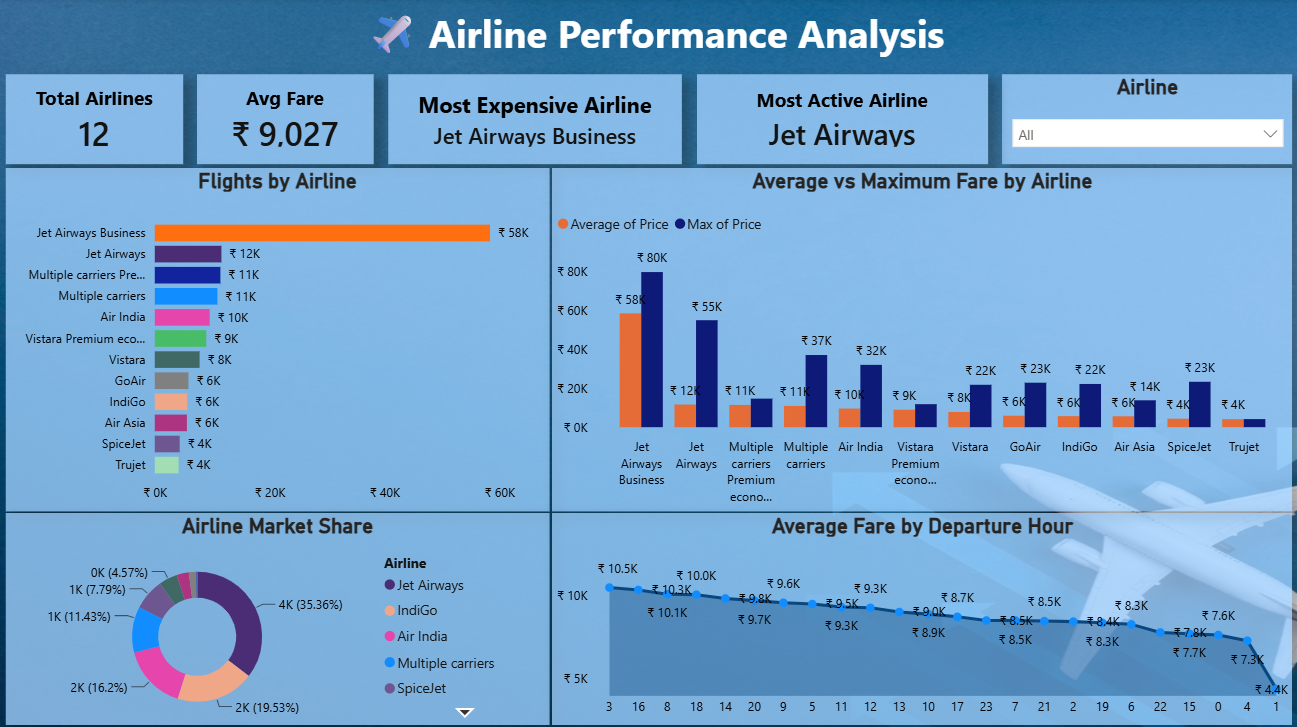

Layout of this report page (visuals, bound fields, positions):
{"tool":"powerbi","page":{"name":"Airline Analysis","canvas":[1280,720],"ordinal":1},"visuals":[{"type":"textbox","box":[321.6,3.7,644.4,66],"z":0},{"type":"slicer","title":"Airline","fields":{"Values":["Clean_Flight_Data.Airline"]},"box":[983.2,74.6,284.9,88],"z":1000},{"type":"cardVisual","fields":{"Data":["Clean_Flight_Data.Total Airlines"]},"box":[8.6,74.6,173.6,88],"z":2000},{"type":"cardVisual","fields":{"Data":["Clean_Flight_Data.Average Price"]},"box":[195.7,74.6,172.4,88],"z":3000},{"type":"cardVisual","fields":{"Data":["Clean_Flight_Data.Most Expensive Airline"]},"box":[382.7,74.6,287.4,88],"z":4000},{"type":"clusteredBarChart","title":"Flights by Airline","fields":{"Category":["Clean_Flight_Data.Airline"],"Y":["Clean_Flight_Data.Average Price"]},"box":[8.6,166.3,531.9,336.3],"z":5000},{"type":"cardVisual","fields":{"Data":["Clean_Flight_Data.Most Active Airline"]},"box":[684.8,74.6,284.9,88],"z":6000},{"type":"clusteredColumnChart","title":"Average vs Maximum Fare by Airline","fields":{"Category":["Clean_Flight_Data.Airline"],"Y":["Avg(Clean_Flight_Data.Price)","Max(Clean_Flight_Data.Price)1"]},"box":[542.9,166.3,725.1,336.3],"z":7000},{"type":"donutChart","title":"Airline Market Share","fields":{"Category":["Clean_Flight_Data.Airline"],"Y":["Clean_Flight_Data.Total Flights"]},"box":[8.6,503.8,531.9,207.9],"z":8000},{"type":"lineChart","title":"Average Fare by Departure Hour","fields":{"Category":["Clean_Flight_Data.Departure_Hour"],"Y":["Clean_Flight_Data.Average Price"]},"box":[542.9,503.8,725.1,207.9],"z":9000}]}

Visuals, with their boxes in screenshot pixels (x1, y1, x2, y2), scaled from the page's 1280x720 canvas onto the 1297x727 screenshot:
textbox: l=326, t=4, r=979, b=70
"Airline" slicer: l=996, t=75, r=1285, b=164
cardVisual - Clean_Flight_Data.Total Airlines: l=9, t=75, r=185, b=164
cardVisual - Clean_Flight_Data.Average Price: l=198, t=75, r=373, b=164
cardVisual - Clean_Flight_Data.Most Expensive Airline: l=388, t=75, r=679, b=164
"Flights by Airline" clusteredBarChart: l=9, t=168, r=548, b=507
cardVisual - Clean_Flight_Data.Most Active Airline: l=694, t=75, r=983, b=164
"Average vs Maximum Fare by Airline" clusteredColumnChart: l=550, t=168, r=1285, b=507
"Airline Market Share" donutChart: l=9, t=509, r=548, b=719
"Average Fare by Departure Hour" lineChart: l=550, t=509, r=1285, b=719
